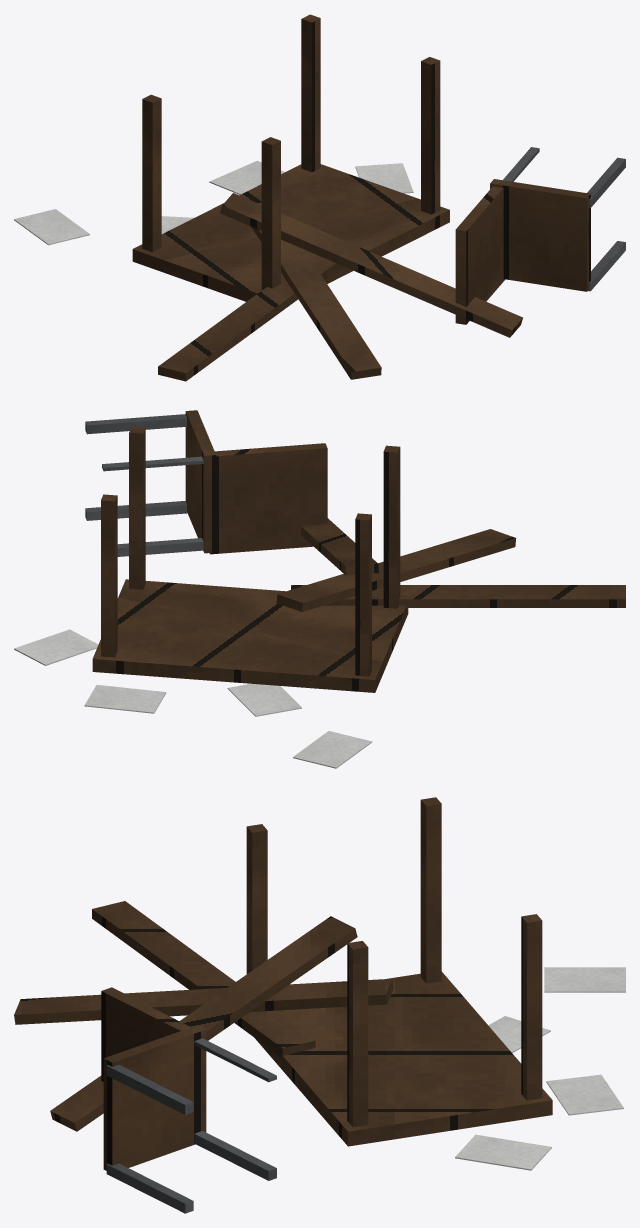
Rendered from int_debris.glb.
3 renders of one model, top to bottom at view 1: azimuth 30°, elevation 25°; view 2: azimuth 150°, elevation 25°; view 3: azimuth 270°, elevation 25°, orthographic. The views are drawn at different scales.
Visible parts, largest first — view 1: detail, debris-col; view 2: detail, debris-col; view 3: detail, debris-col.
Boxes of the visible parts, box(x1,y1,x2,y2) form: detail: box(14, 147, 625, 381); debris-col: box(132, 14, 449, 301); detail: box(14, 410, 625, 768); debris-col: box(92, 426, 408, 692); detail: box(14, 901, 625, 1213); debris-col: box(246, 797, 552, 1146).
Size of what is drawn, in the model's own units: 2.48 by 0.8222 by 2.25.
Materials: 3 (3 with a texture image).
